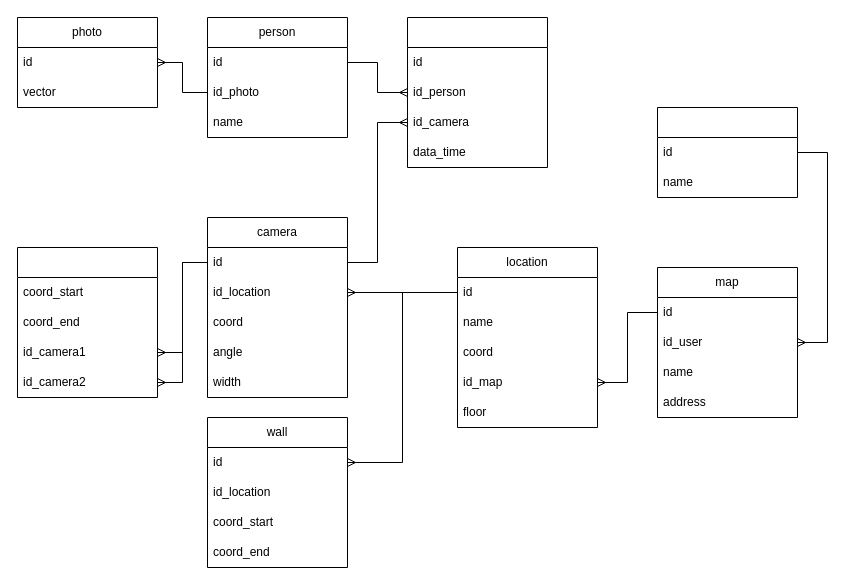
Image size: 853x585. Some labels were removed from this diagram. Each missing label, with the box of its shape:
appearance: (406, 16, 548, 168)
blind_line: (16, 246, 158, 398)
user: (656, 106, 798, 198)
